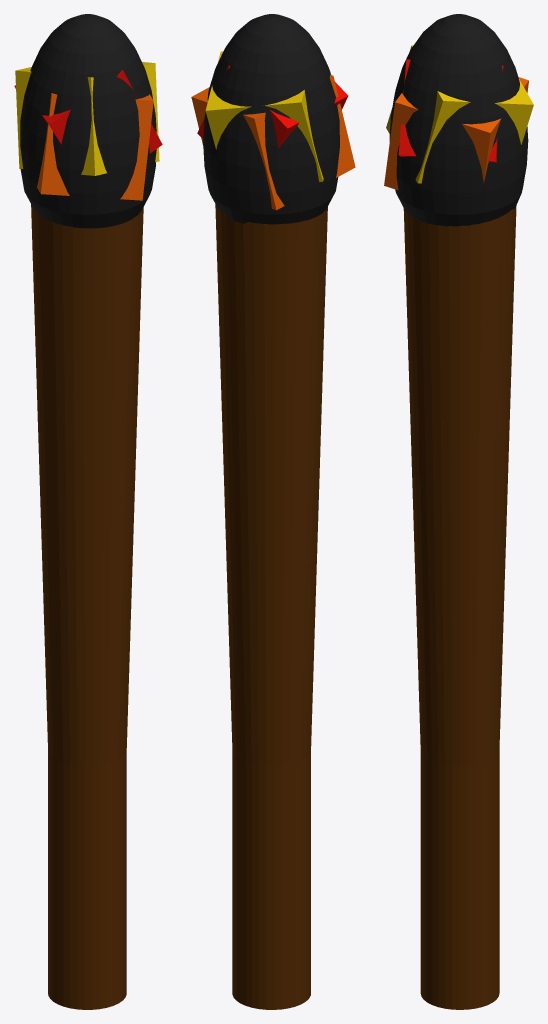
File: torch.fbx
3 renders of one model, left to right at view 1: azimuth 30°, elevation 25°; view 2: azimuth 150°, elevation 25°; view 3: azimuth 270°, elevation 25°, orthographic.
Parts seen in each view (by area): view 1: Cylinder.003; view 2: Cylinder.003; view 3: Cylinder.003.
Part boxes in pixels (x1,y1,x2,y2): Cylinder.003: [14, 14, 162, 1009]; Cylinder.003: [191, 14, 355, 1009]; Cylinder.003: [384, 14, 533, 1009].
Bounding box in the file's own units: 217 × 1552 × 216.
